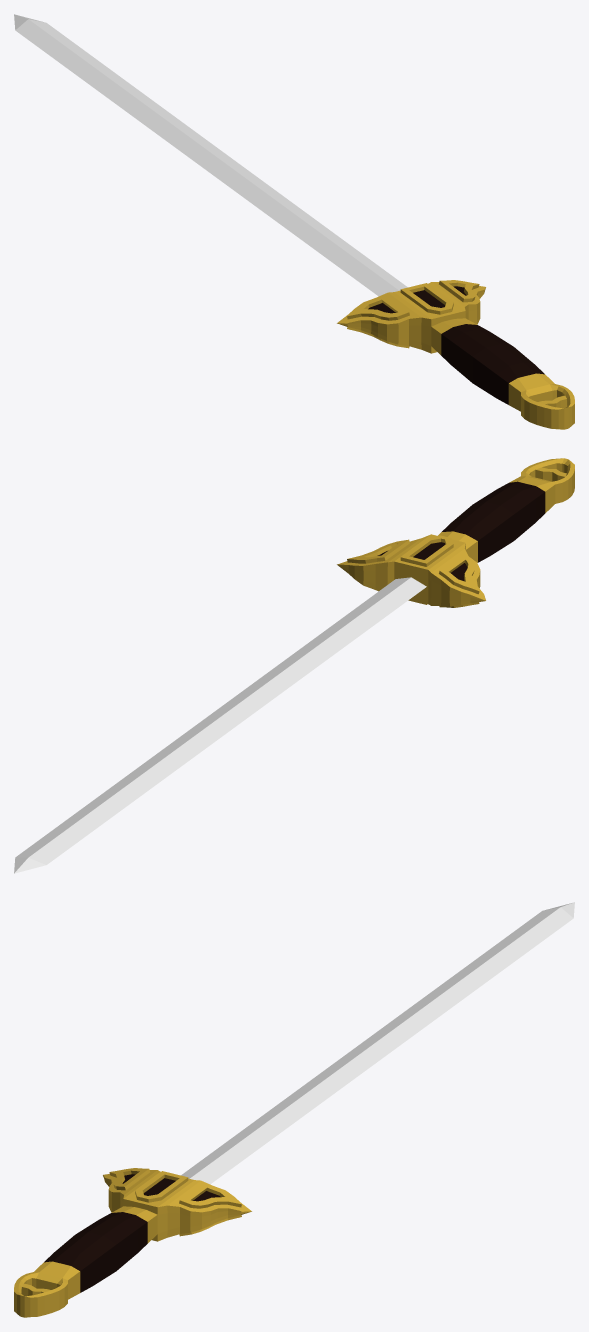
File: sword-1.glb
The picture shows the model from 3 angles, top to bottom: view 1: azimuth 30°, elevation 25°; view 2: azimuth 150°, elevation 25°; view 3: azimuth 330°, elevation 25°; orthographic projection.
Parts seen in each view (by area): view 1: 剑1_立方体.018; view 2: 剑1_立方体.018; view 3: 剑1_立方体.018.
Part boxes in pixels (box(x1,y1,x2,y2)): 剑1_立方体.018: box(14, 14, 574, 429); 剑1_立方体.018: box(14, 458, 574, 873); 剑1_立方体.018: box(14, 902, 574, 1317).
Size of the model in its own units: 0.5941 by 0.157 by 3.8.
